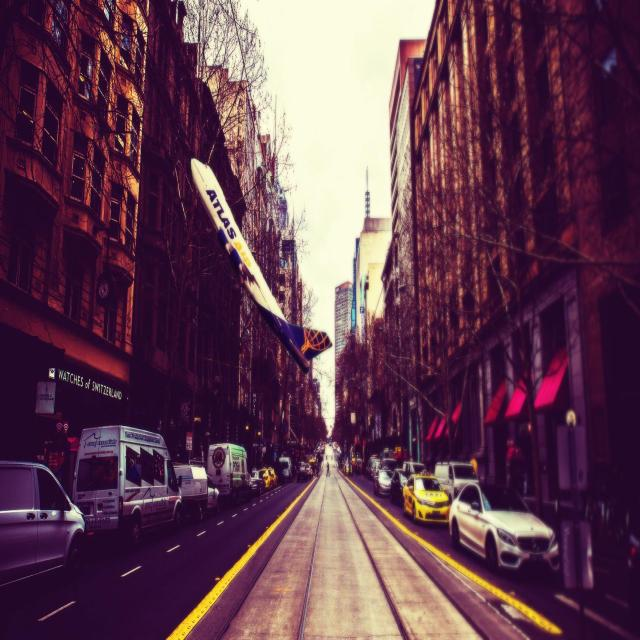airplane: (190, 156, 332, 374)
